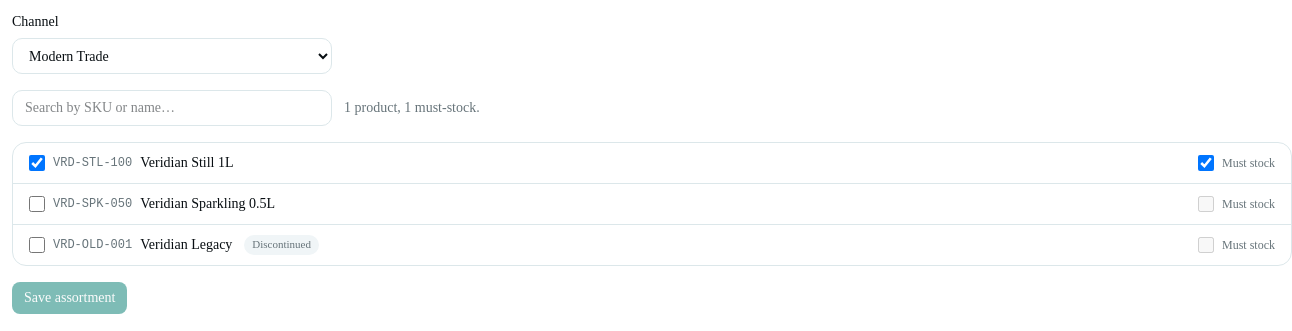
Test case: <AssortmentEditor> › offers nothing to save until something changes
Expected: the button "Save assortment" is disabled, [12,282,127,314]
What coordinates should you click on to do the following:
click the checkbox named "Include Veridian Sparkling 0.5L"
I would click on:
 (37, 204)
Its box is [29,196,45,212].
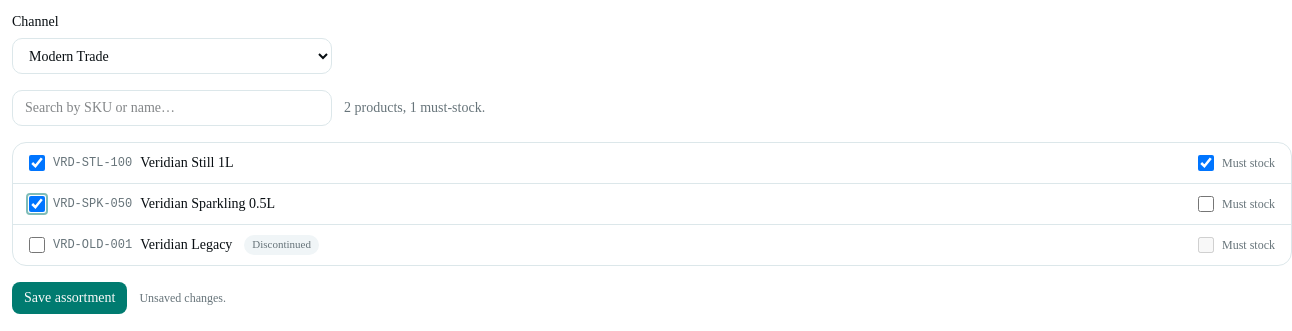
Result: the button "Save assortment" is enabled at [12,282,127,314]
And back again — a change undone is not a change.
What coordinates should you click on to do the following:
click the checkbox named "Include Veridian Sparkling 0.5L"
I would click on:
 (37, 204)
Its box is [29,196,45,212].
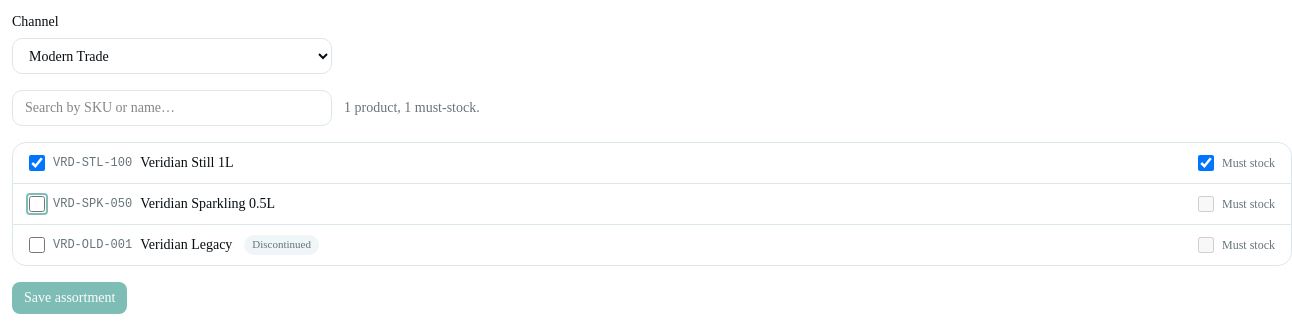
Result: the button "Save assortment" is disabled at [12,282,127,314]
